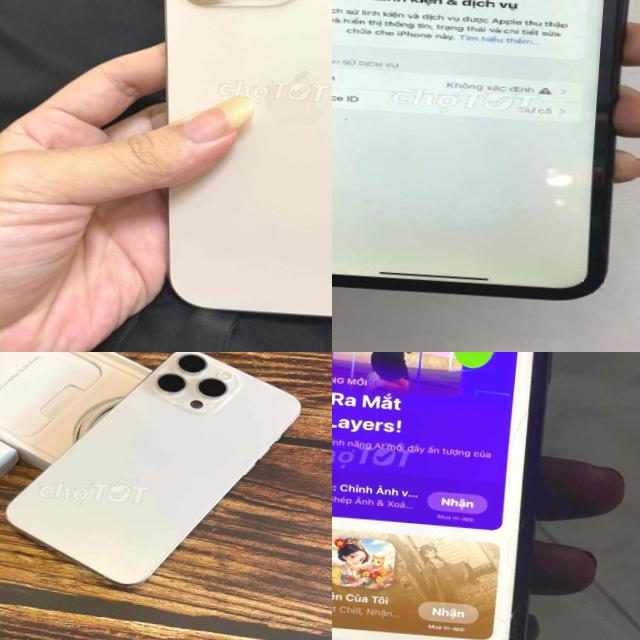gen_15: (0, 352, 313, 601)
gen_16: (126, 0, 332, 343)
gen_x_xs: (332, 0, 640, 312), (332, 352, 563, 640)
